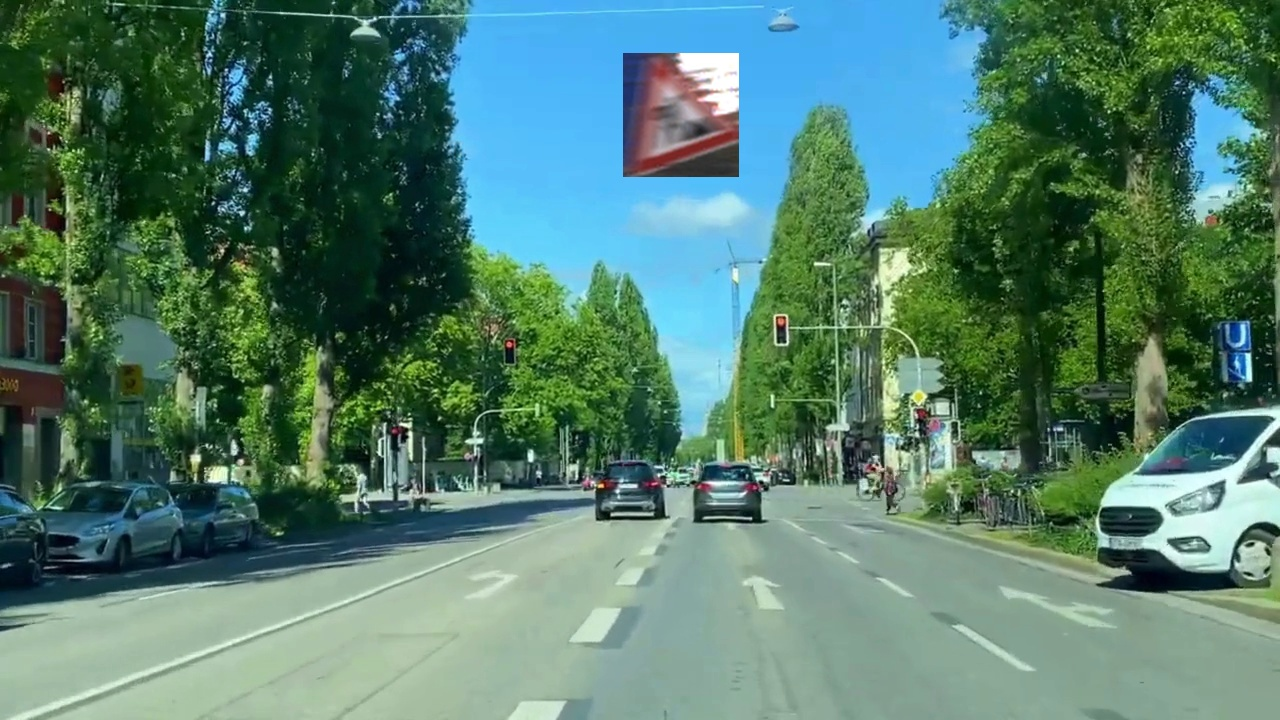Road work: (623, 53, 739, 177)
